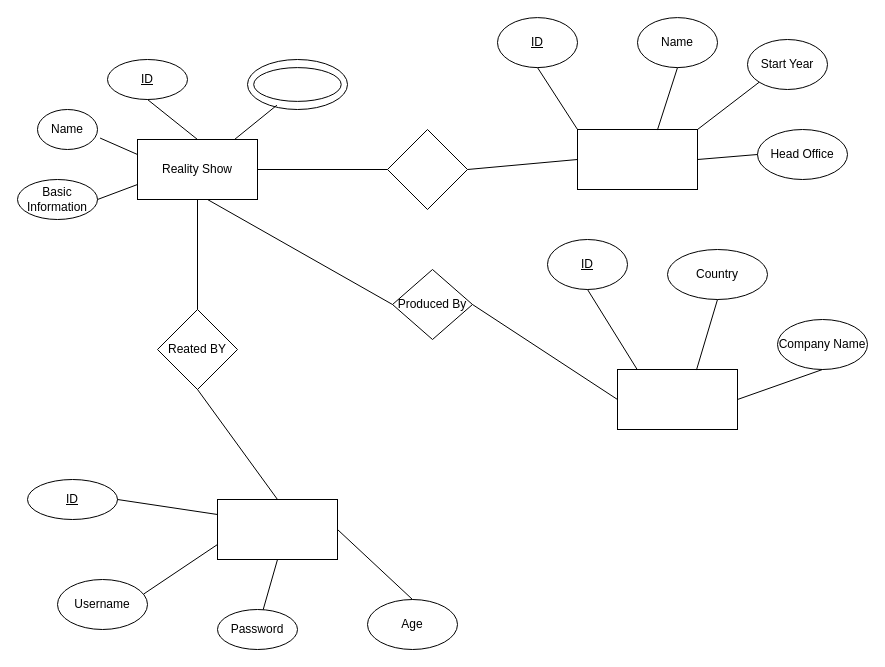
Image size: 885x667. Some labels were removed from this diagram. Here are the shapes that lost their labels. From the top down, the box of each, then its label:
(253, 67, 341, 101): Participants
(386, 128, 468, 210): Brodcasted By
(576, 128, 698, 190): Tv Channel
(616, 368, 738, 430): producers
(216, 498, 338, 560): User
